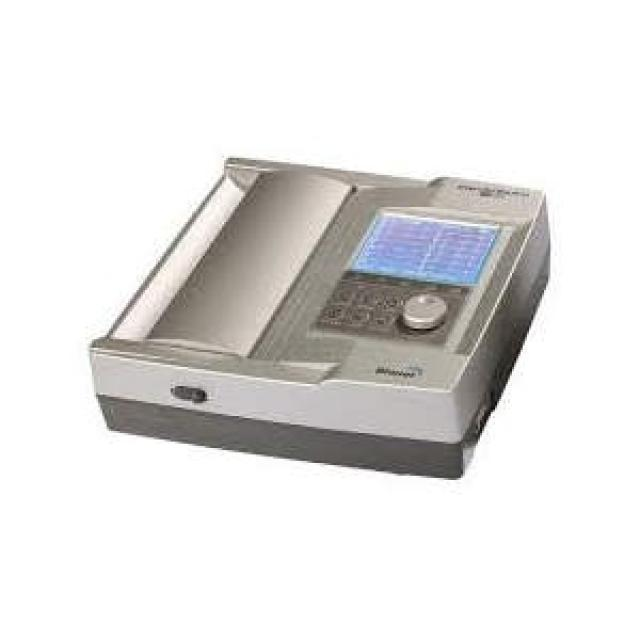Monitor: (85, 151, 552, 480)
